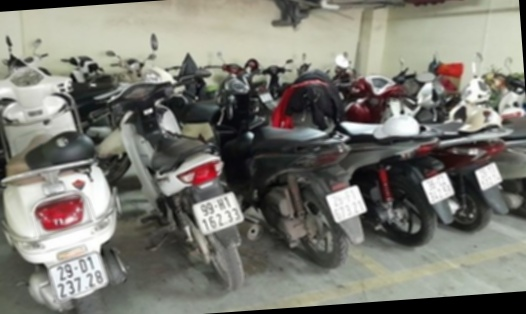Bien-so: (49, 250, 107, 302), (190, 191, 247, 236), (325, 182, 371, 226), (423, 171, 457, 204), (475, 160, 507, 194)
